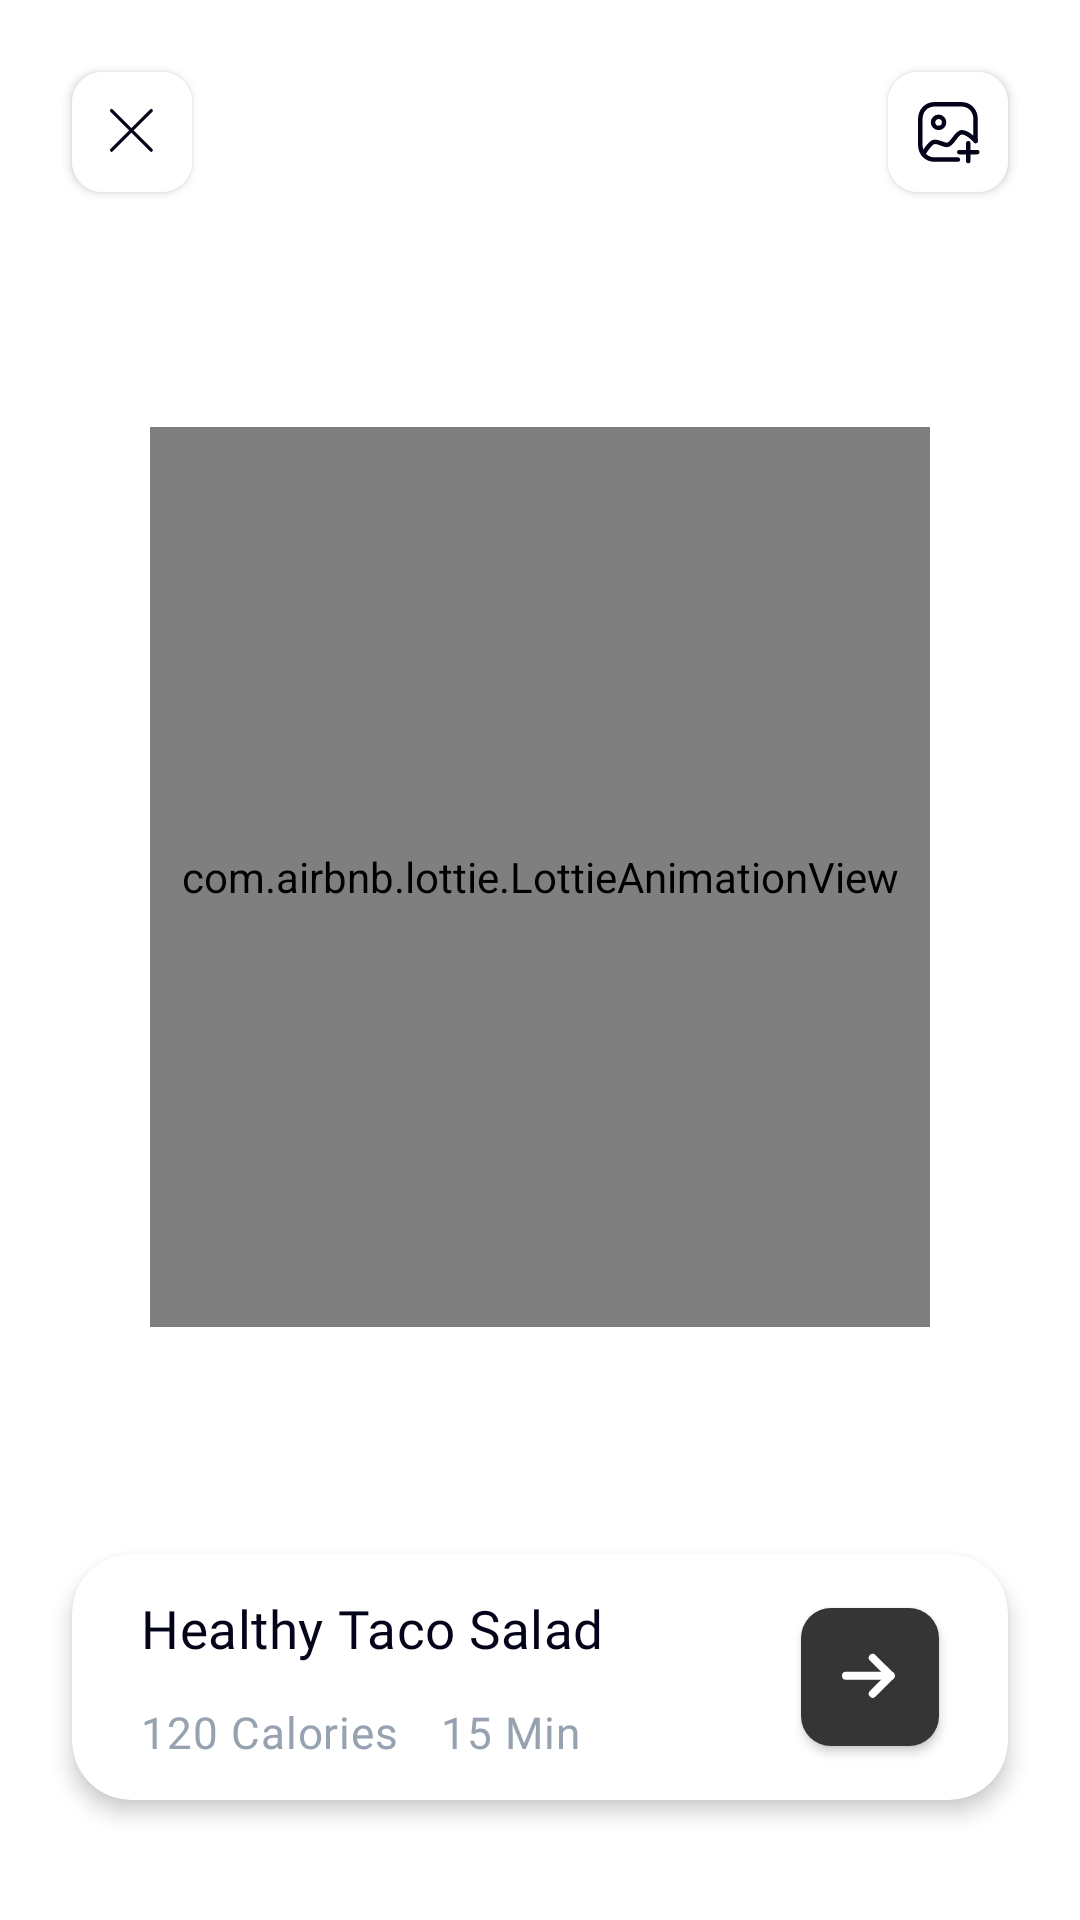

Point at icon controls on the screen. Image size 1080px×1920px, points as [x,y].
arrow: [870,1677]
